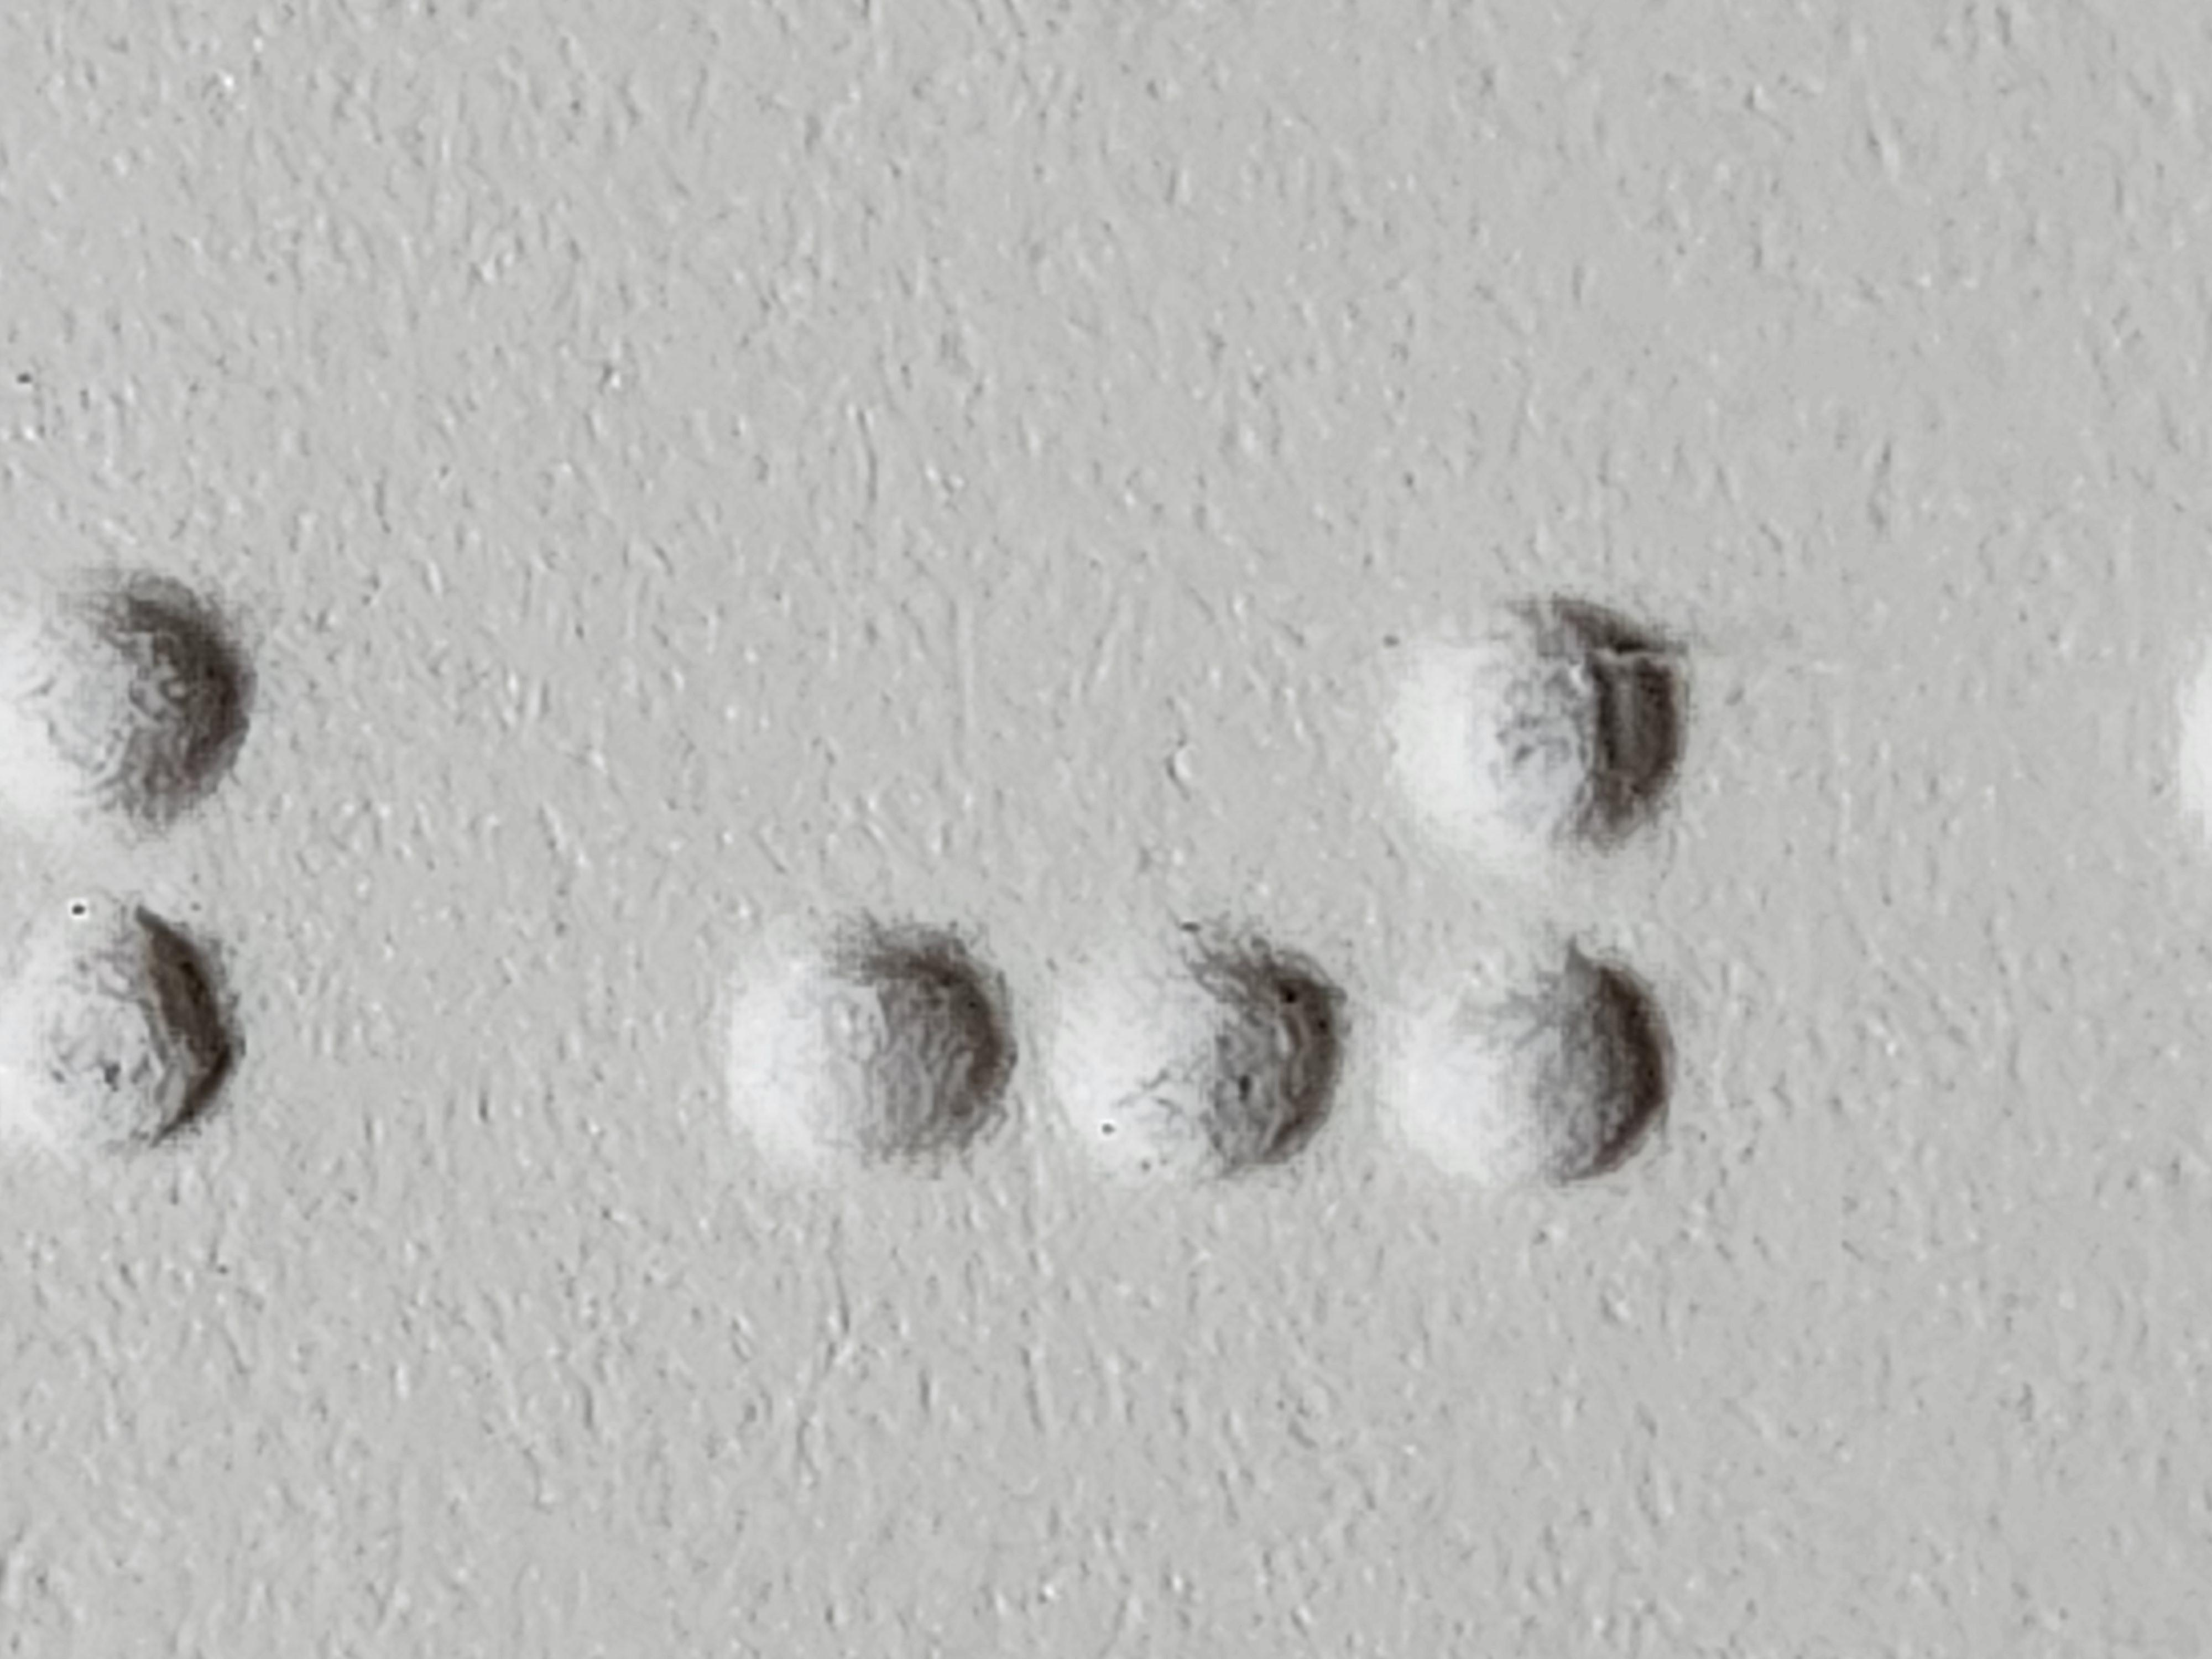one_cell_alphabet_bagaman: (622, 535, 1416, 1263)
